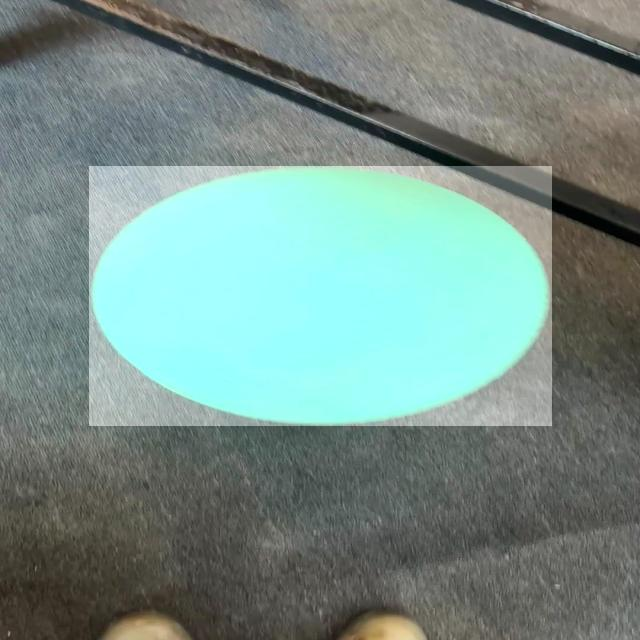Algae: (89, 166, 552, 426)
